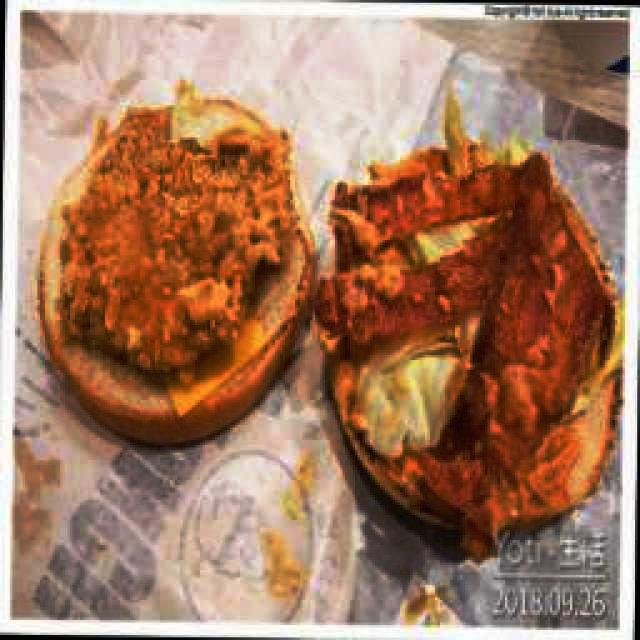fried_chicken: (65, 109, 289, 383)
